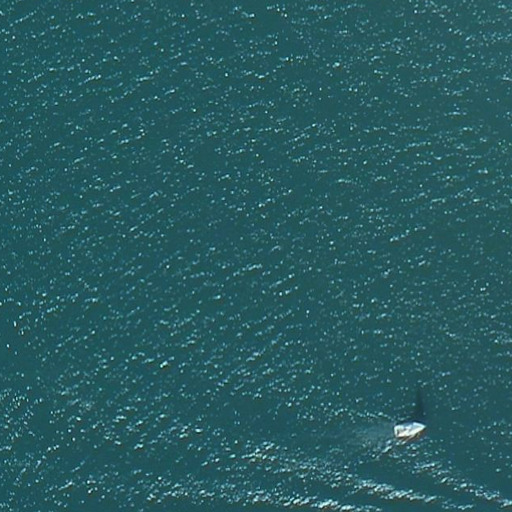ship: (391, 418, 429, 442)
